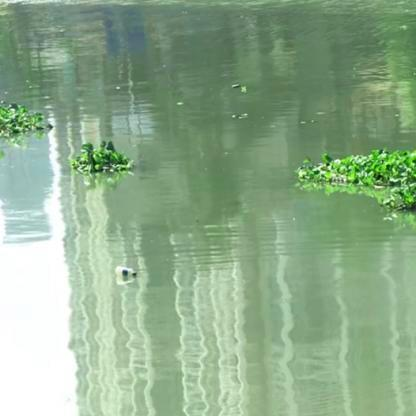Plastic: (113, 263, 140, 282)
